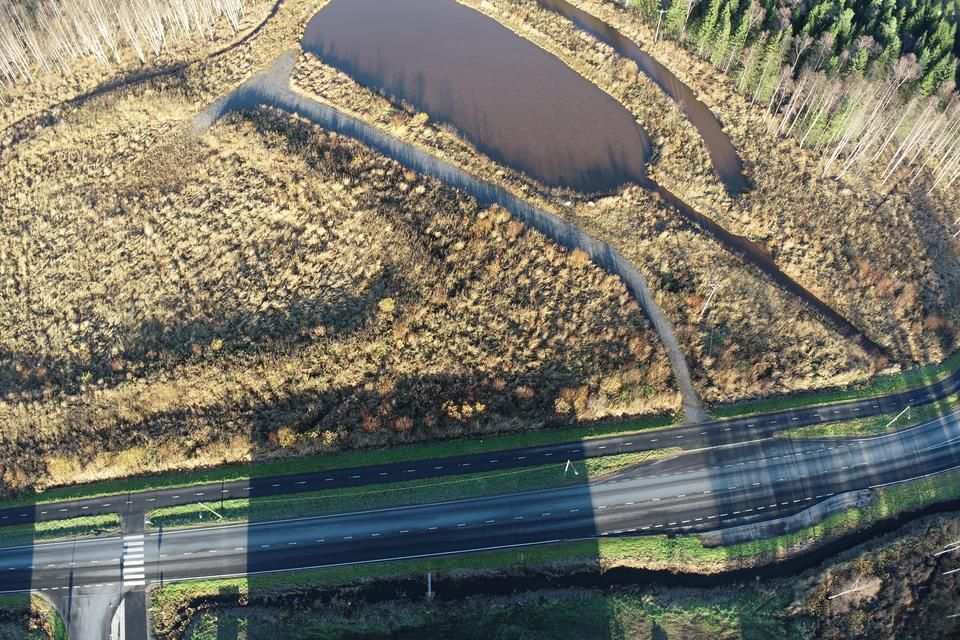intersection: (26, 461, 162, 640), (658, 371, 737, 562)
